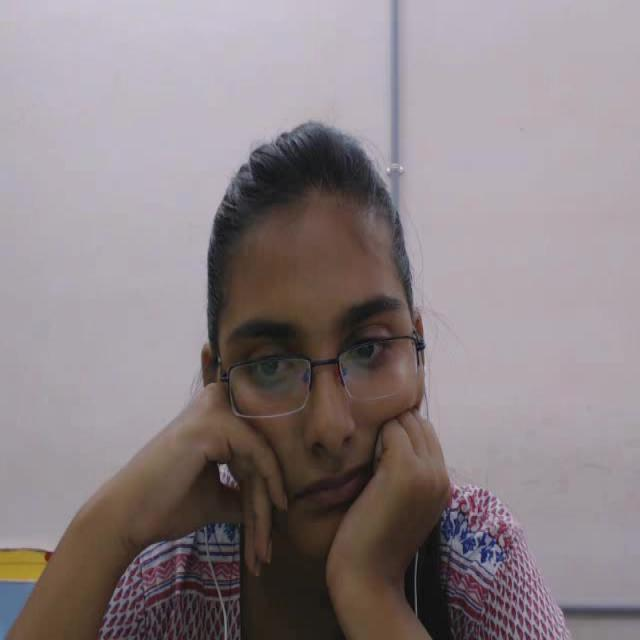Bored: (171, 97, 473, 583)
